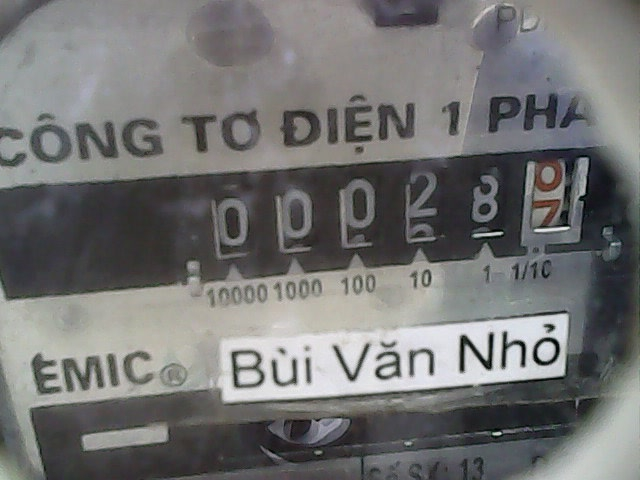phy_plate: (188, 146, 598, 271)
